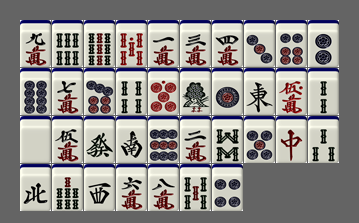0m: (276, 68, 307, 115)
0p: (148, 68, 179, 115)
0s: (116, 20, 147, 67)
1m: (148, 20, 179, 67)
1p: (212, 68, 243, 115)
1s: (180, 68, 211, 115)
1z: (244, 68, 275, 115)
2m: (180, 116, 211, 163)
2p: (308, 20, 339, 67)
2s: (308, 68, 339, 115)
2z: (116, 116, 147, 163)
3m: (180, 20, 211, 67)
3p: (244, 20, 275, 67)
3s: (308, 116, 339, 163)
3z: (84, 164, 115, 211)
4m: (212, 20, 243, 67)
4p: (212, 164, 243, 211)
4s: (116, 68, 147, 115)
4z: (20, 164, 51, 211)
5m: (52, 116, 83, 163)
5p: (244, 116, 275, 163)
5s: (180, 164, 211, 211)
5z: (20, 116, 51, 163)
6m: (116, 164, 147, 211)
6p: (276, 20, 307, 67)
6s: (52, 20, 83, 67)
6z: (84, 116, 115, 163)
7m: (52, 68, 83, 115)
7p: (84, 68, 115, 115)
7s: (52, 164, 83, 211)
7z: (276, 116, 307, 163)
8m: (148, 164, 179, 211)
8p: (20, 68, 51, 115)
8s: (212, 116, 243, 163)
9m: (20, 20, 51, 67)
9p: (148, 116, 179, 163)
9s: (84, 20, 115, 67)
